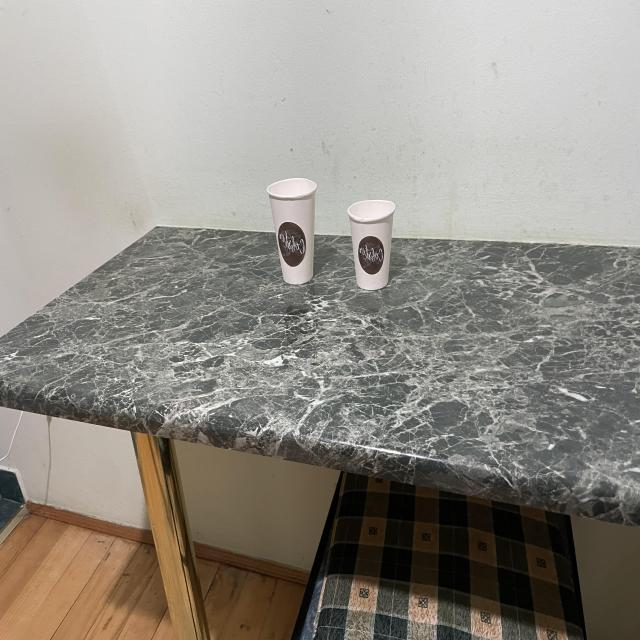big: (266, 172, 318, 286)
small: (344, 189, 398, 290)
